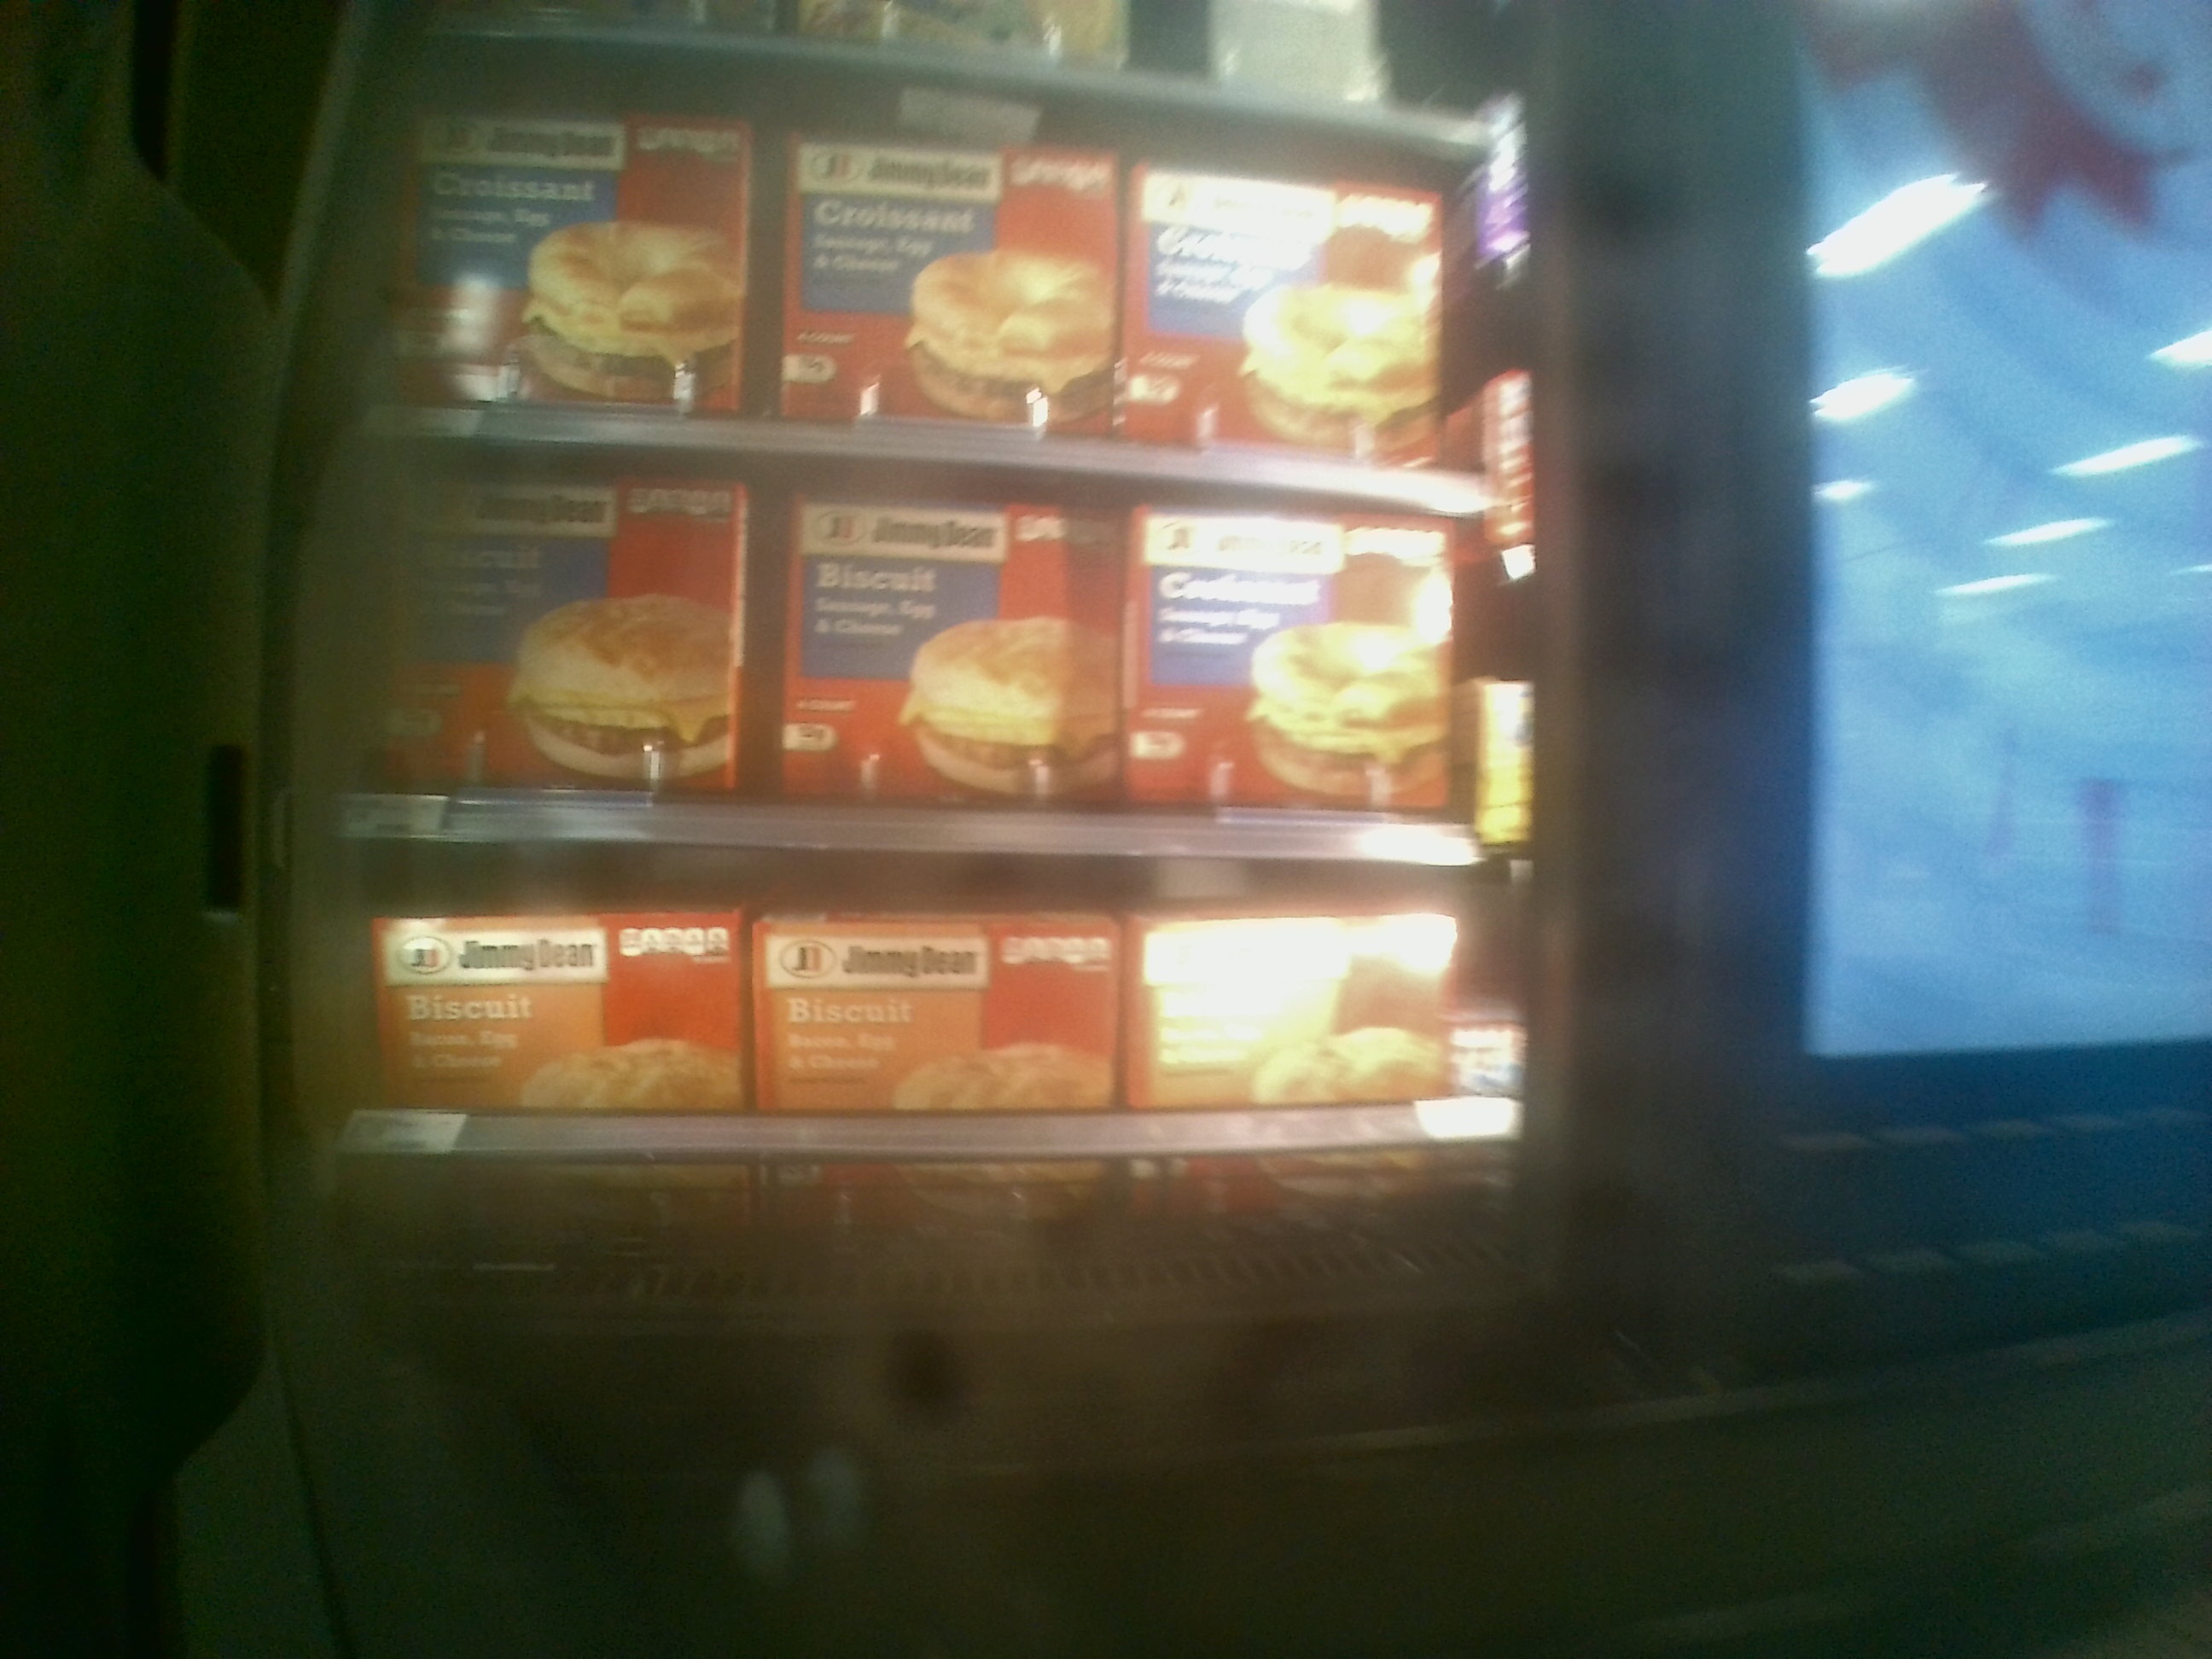shelf: (331, 843, 1521, 1274), (347, 437, 1515, 854)
